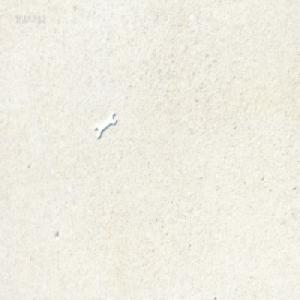Wrench: (93, 110, 116, 138)
